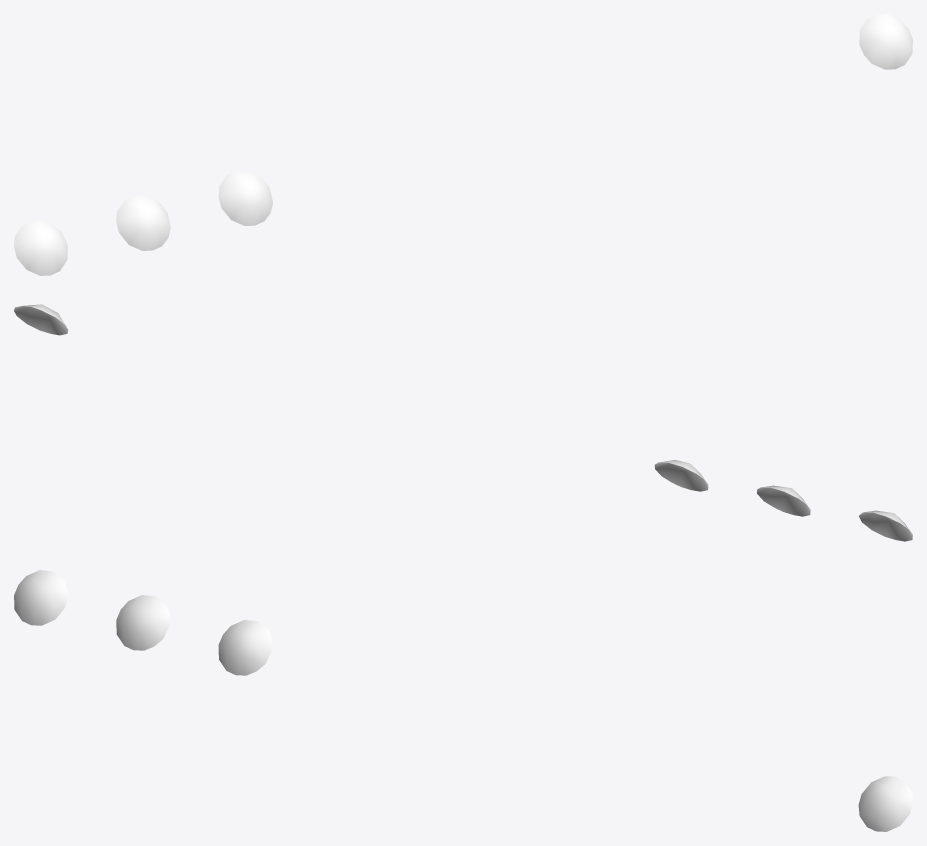
3 renders of one model, top to bottom at view 1: azimuth 30°, elevation 25°; view 2: azimuth 150°, elevation 25°; view 3: azimuth 330°, elevation 25°, orthographic.
Size of the model in its own units: 0.2033 by 0.00884 by 0.00756.
Materials: 1 (1 with a texture image).
